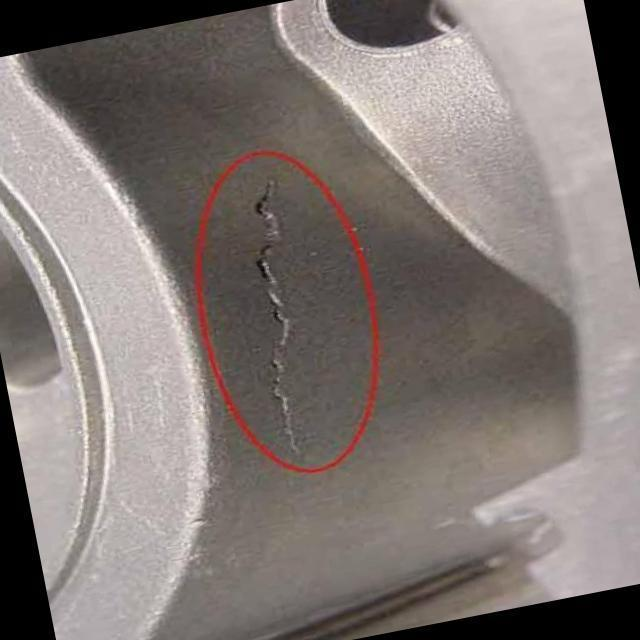defect: (247, 171, 307, 464)
